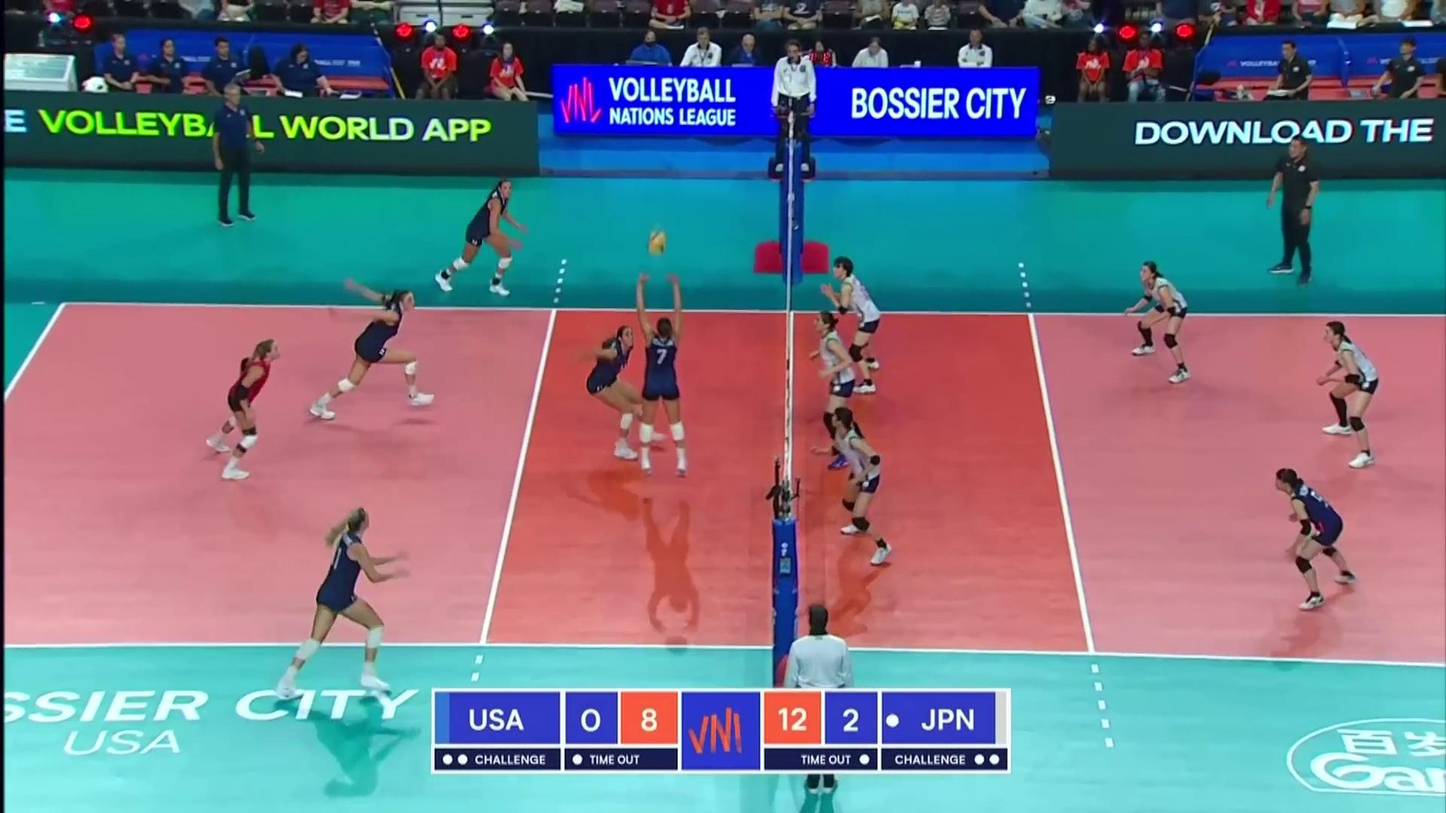player: (276, 506, 410, 699), (309, 288, 434, 423), (1270, 469, 1358, 608), (817, 406, 893, 564), (583, 325, 668, 458), (635, 274, 687, 476), (437, 181, 526, 299), (207, 339, 279, 480), (1315, 322, 1383, 470), (821, 256, 884, 391), (1124, 260, 1194, 381), (811, 313, 858, 467)
refree: (781, 605, 853, 797), (771, 41, 816, 172)
